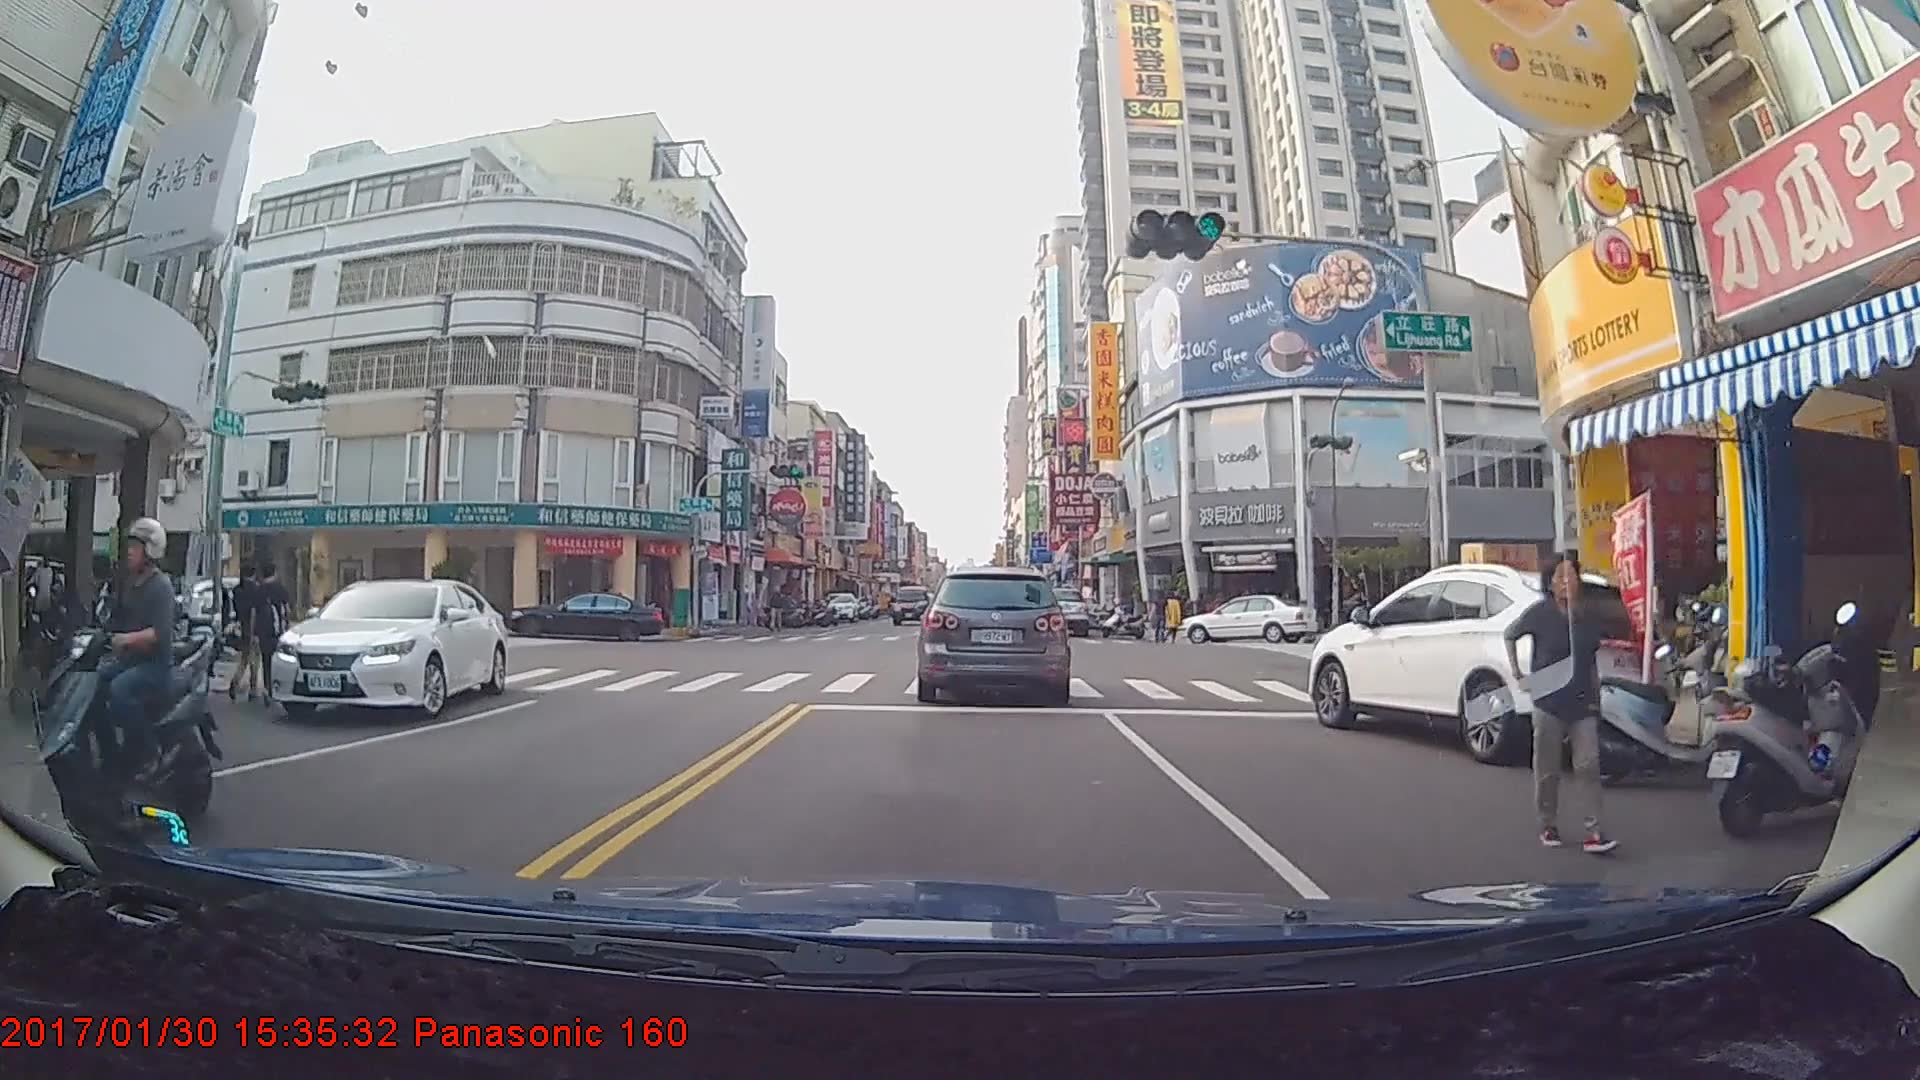pedestrian: (1511, 552, 1635, 854), (247, 559, 297, 700), (226, 565, 268, 700), (1149, 589, 1173, 644), (1165, 589, 1186, 645), (769, 585, 789, 632)
rider: (26, 512, 227, 839)
vehicle: (1305, 558, 1676, 764), (263, 576, 505, 721), (917, 566, 1067, 700), (508, 588, 664, 642), (1177, 593, 1319, 644), (1027, 585, 1088, 638), (890, 582, 931, 623), (817, 590, 860, 621)
